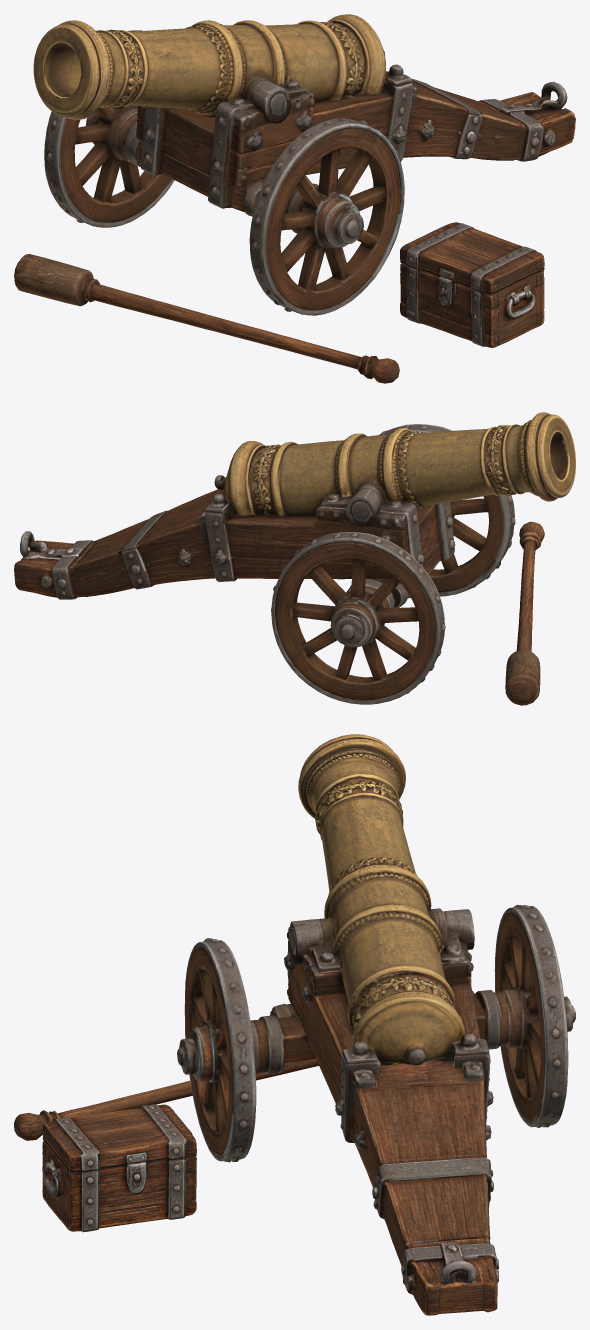
File: Saha topu.glb
3 views of the same model, one above another, from view 1: azimuth 30°, elevation 25°; view 2: azimuth 150°, elevation 25°; view 3: azimuth 270°, elevation 25° (orthographic). The views are drawn at different scales.
Parts seen in each view (by area): view 1: tripo_node_b30886bd-0b94-489f-a090-96dd309ab2a4; view 2: tripo_node_b30886bd-0b94-489f-a090-96dd309ab2a4; view 3: tripo_node_b30886bd-0b94-489f-a090-96dd309ab2a4.
Part boxes in pixels (x1,y1,x2,y2): tripo_node_b30886bd-0b94-489f-a090-96dd309ab2a4: (14,14,575,383); tripo_node_b30886bd-0b94-489f-a090-96dd309ab2a4: (14,412,575,705); tripo_node_b30886bd-0b94-489f-a090-96dd309ab2a4: (14,734,575,1315).
Size of the model in its own units: 0.9807 by 0.483 by 0.7737.
1 material, 1 textured.
